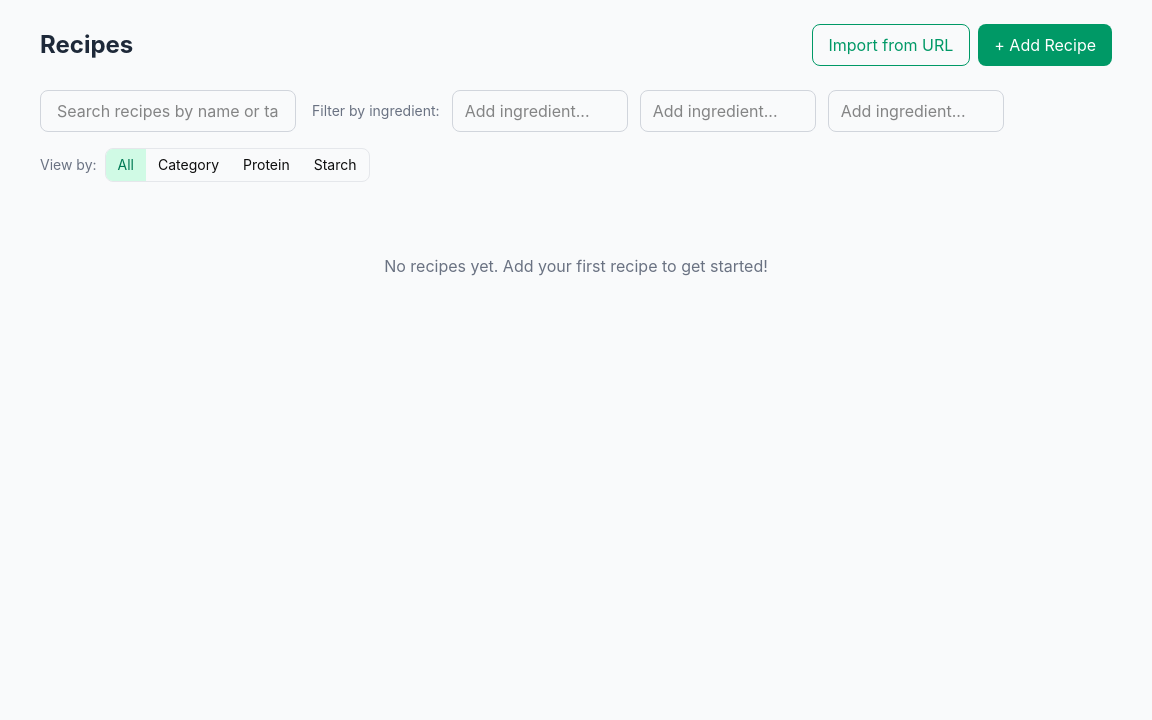
Test: Recipes › Modal Navigation › Add Recipe button opens create modal
Click the button "+ Add Recipe": (1045, 45) [978,24,1112,66]
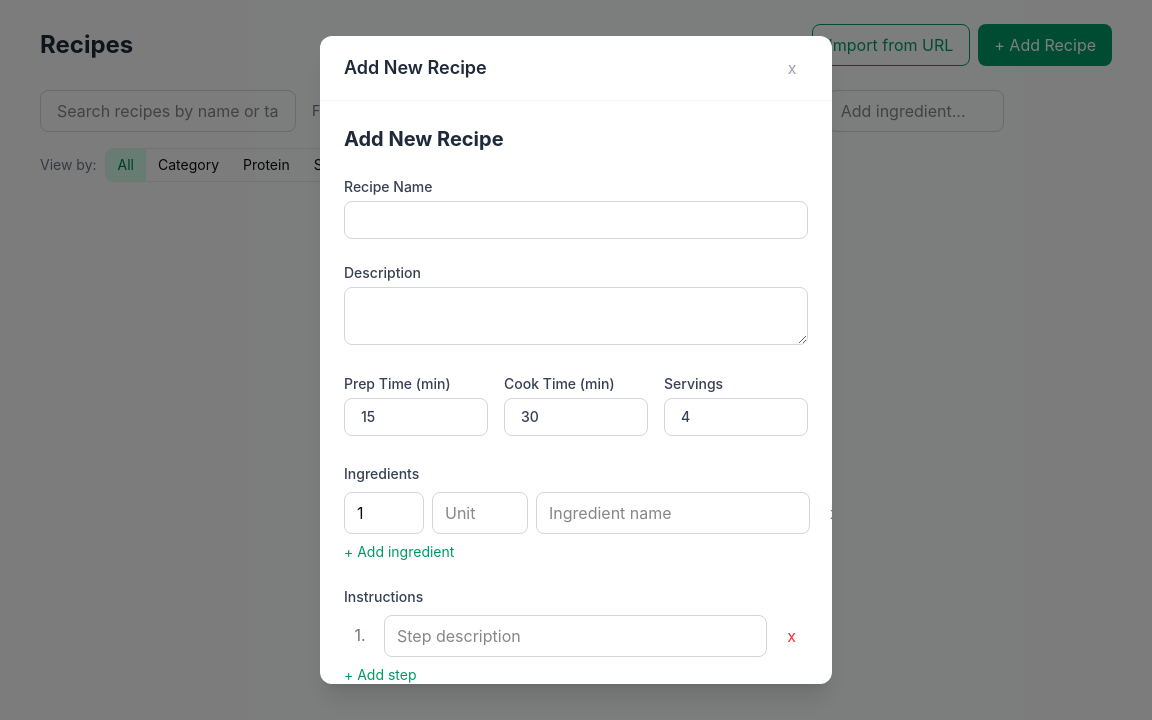
Result: the dialog is shown
Result: the text "Recipe Name" is shown at [344,177,808,239]
Result: the text "Description" is shown at [344,263,808,350]
